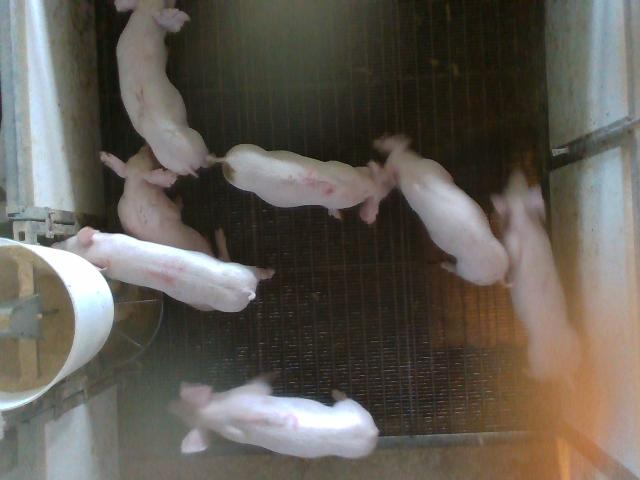pig-3: (170, 375, 379, 458)
pig-4: (56, 228, 272, 312)
pig-5: (216, 144, 394, 223)
